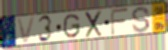3: (37, 14, 56, 43)
F: (110, 8, 130, 37)
G: (63, 13, 82, 40)
S: (131, 6, 151, 35)
V: (15, 15, 37, 45)
X: (84, 9, 103, 39)
